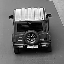mobil: (8, 6, 55, 53)
